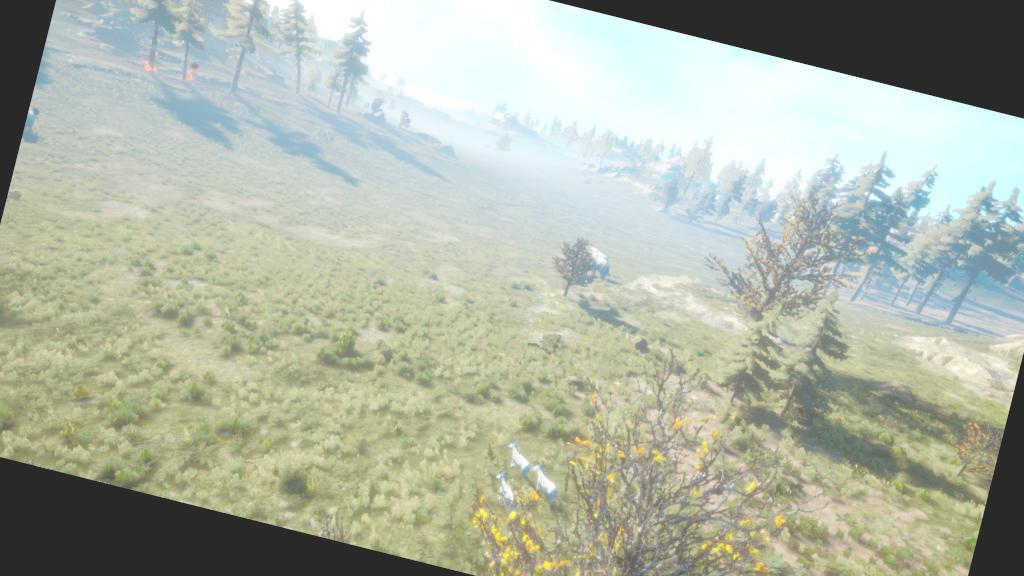Fire: (139, 56, 161, 74), (178, 66, 198, 84)
elephant: (582, 248, 612, 278), (24, 106, 42, 134)
zebra: (526, 462, 566, 504), (498, 440, 536, 481), (490, 471, 526, 510)
